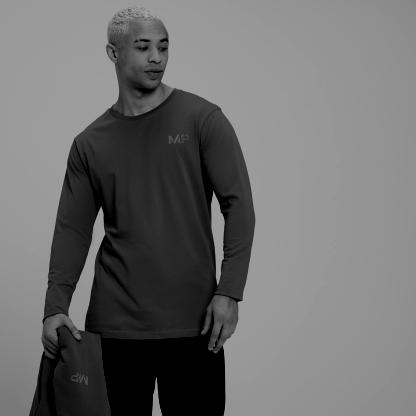dress: (43, 82, 260, 352)
